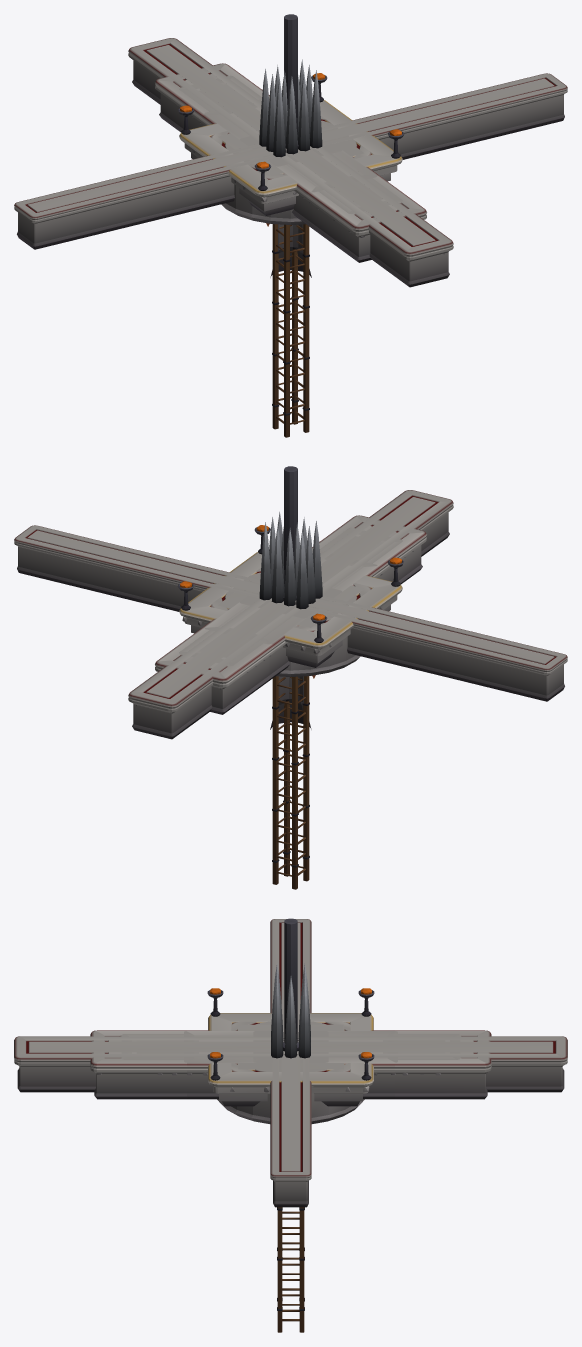
File: fortress-1-DjjKaXAE.glb
3 views of the same model, one above another, from view 1: azimuth 30°, elevation 25°; view 2: azimuth 150°, elevation 25°; view 3: azimuth 270°, elevation 25° (orthographic).
Visible parts, largest first — view 1: block_44x2x3#0, block_4x2x40_grate#1, pad_12x2x12#0, truss_22#0, block_6x2x29#1, spikes_4x6x3#0, block_6x2x16#1, disc_12x1.5#0, block_5x2x25#0, press_5x6x2#0, support_0_round#0; view 2: block_44x2x3#0, block_4x2x40_grate#1, pad_12x2x12#0, truss_22#0, block_6x2x29#1, spikes_4x6x3#0, block_6x2x16#1, disc_12x1.5#0, block_5x2x25#0, press_5x6x2#0, support_0_round#0; view 3: block_4x2x40_grate#1, block_6x2x29#1, block_44x2x3#0, pad_12x2x12#0, block_6x2x16#1, spikes_4x6x3#0, truss_22#0, disc_12x1.5#0, block_5x2x25#0, press_5x6x2#0, block_6x2x6#1.
Boxes of the visible parts, bbox=[...] form: block_44x2x3#0: bbox=[14, 73, 567, 249]; block_4x2x40_grate#1: bbox=[128, 38, 453, 287]; pad_12x2x12#0: bbox=[178, 73, 404, 215]; truss_22#0: bbox=[272, 148, 309, 437]; block_6x2x29#1: bbox=[155, 63, 426, 262]; spikes_4x6x3#0: bbox=[259, 59, 322, 157]; block_6x2x16#1: bbox=[201, 97, 378, 228]; disc_12x1.5#0: bbox=[210, 116, 371, 224]; block_5x2x25#0: bbox=[179, 75, 402, 214]; press_5x6x2#0: bbox=[266, 14, 298, 226]; support_0_round#0: bbox=[270, 224, 311, 277]; block_44x2x3#0: bbox=[14, 525, 567, 701]; block_4x2x40_grate#1: bbox=[128, 490, 453, 739]; pad_12x2x12#0: bbox=[177, 525, 403, 667]; truss_22#0: bbox=[272, 600, 309, 889]; block_6x2x29#1: bbox=[155, 515, 426, 714]; spikes_4x6x3#0: bbox=[259, 511, 322, 609]; block_6x2x16#1: bbox=[203, 549, 380, 680]; disc_12x1.5#0: bbox=[210, 568, 371, 676]; block_5x2x25#0: bbox=[179, 527, 402, 666]; press_5x6x2#0: bbox=[283, 466, 315, 678]; support_0_round#0: bbox=[270, 676, 311, 729]; block_4x2x40_grate#1: bbox=[14, 1036, 567, 1092]; block_6x2x29#1: bbox=[90, 1030, 491, 1099]; block_44x2x3#0: bbox=[270, 919, 311, 1207]; pad_12x2x12#0: bbox=[207, 988, 374, 1106]; block_6x2x16#1: bbox=[184, 1030, 397, 1099]; spikes_4x6x3#0: bbox=[271, 963, 310, 1058]; truss_22#0: bbox=[277, 1207, 304, 1332]; disc_12x1.5#0: bbox=[217, 1021, 364, 1123]; block_5x2x25#0: bbox=[119, 1034, 462, 1059]; press_5x6x2#0: bbox=[283, 918, 298, 1051]; block_6x2x6#1: bbox=[253, 1031, 328, 1062].
Size of the model in its own units: 44 by 32.3 by 40.
